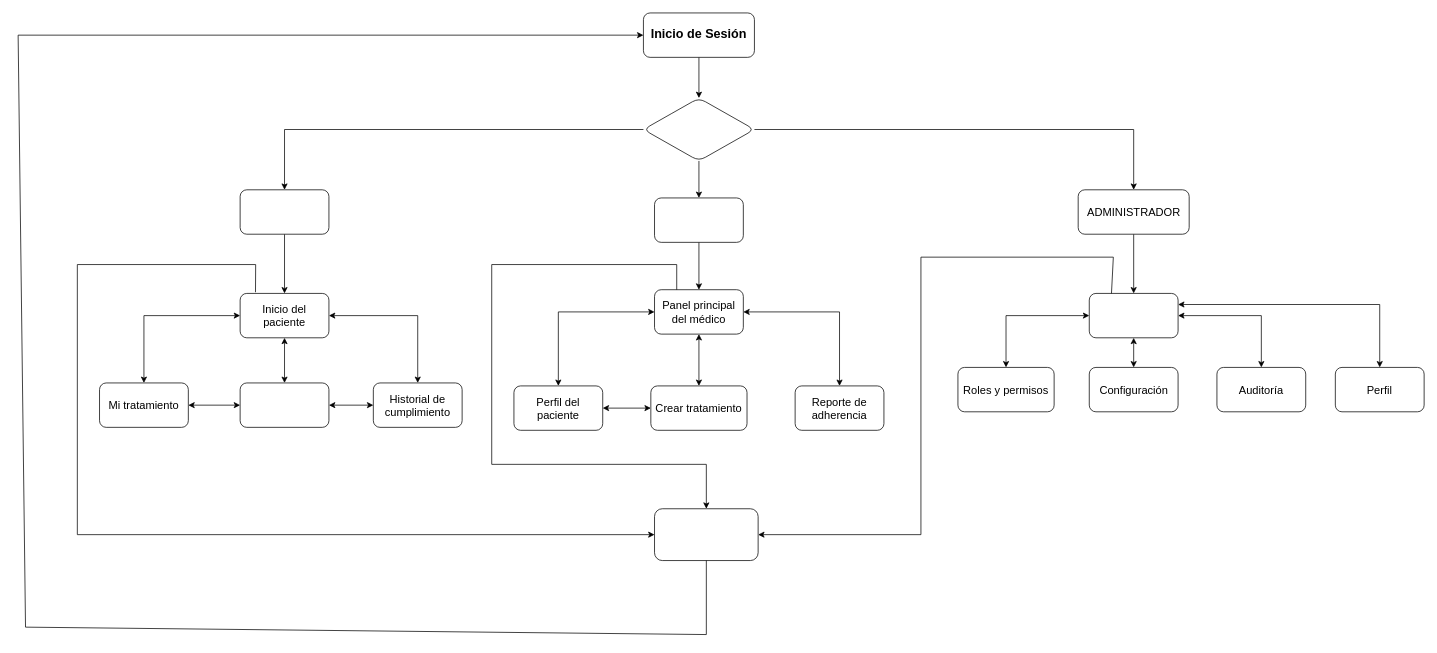
This 1437x653 diagram has some shape labels left out. The box of each missing label's shape, as (x1, y1, x2, y2) in pixels:
Cerrar Sesión: (654, 508, 758, 561)
Gestión de usuarios y roles: (1089, 293, 1178, 338)
MÉDICO: (654, 197, 743, 242)
PACIENTE: (239, 189, 329, 234)
Registrar toma: (239, 382, 329, 427)
Validación del rol: (643, 97, 754, 161)
